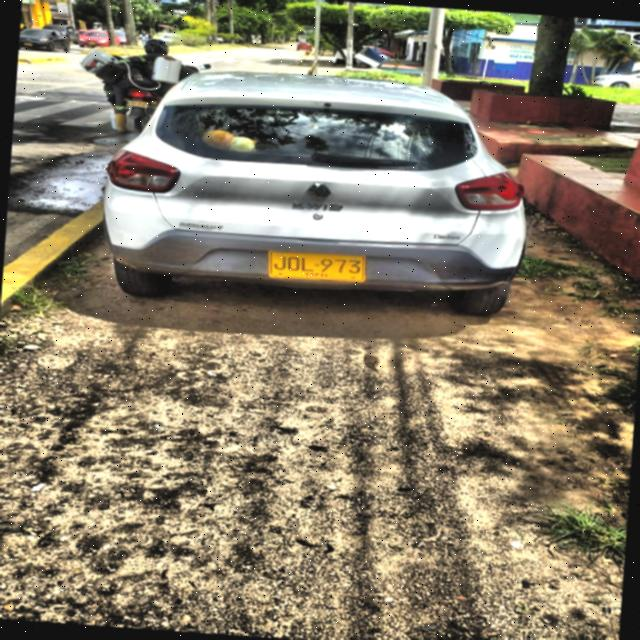plate: (269, 251, 365, 281)
